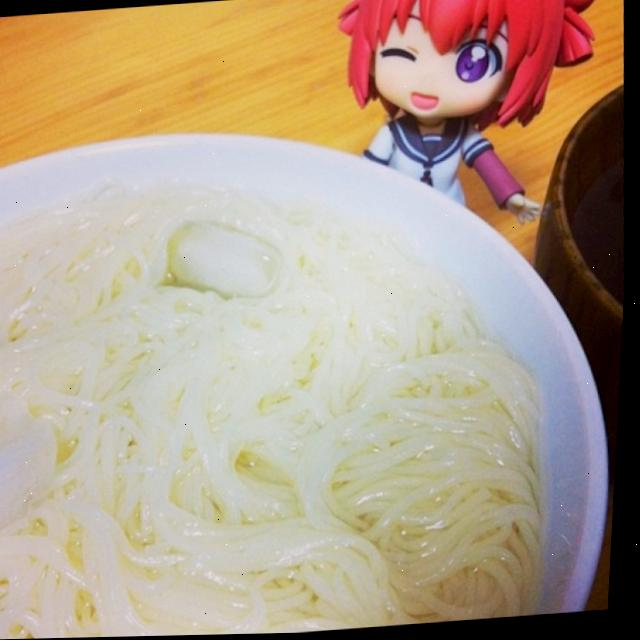面条主食: (0, 89, 607, 640)
